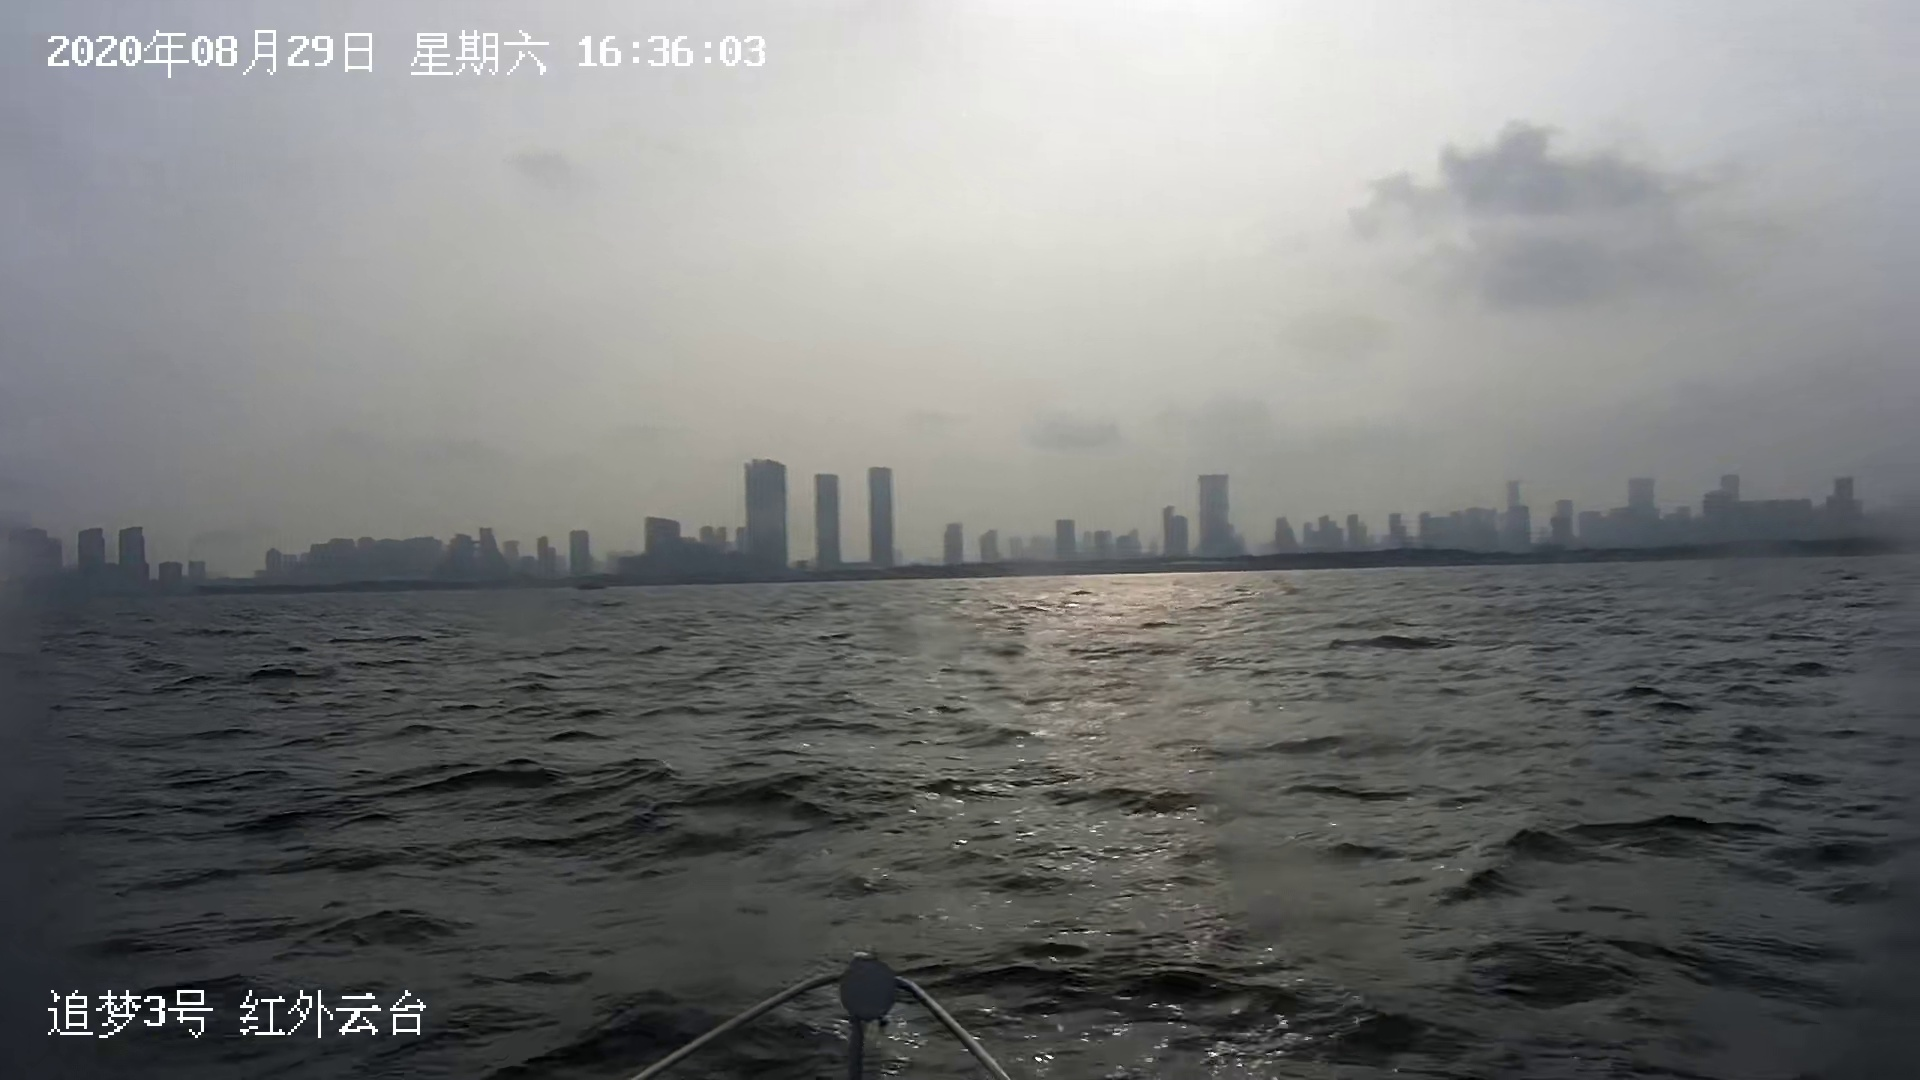coast: (9, 459, 1904, 592)
